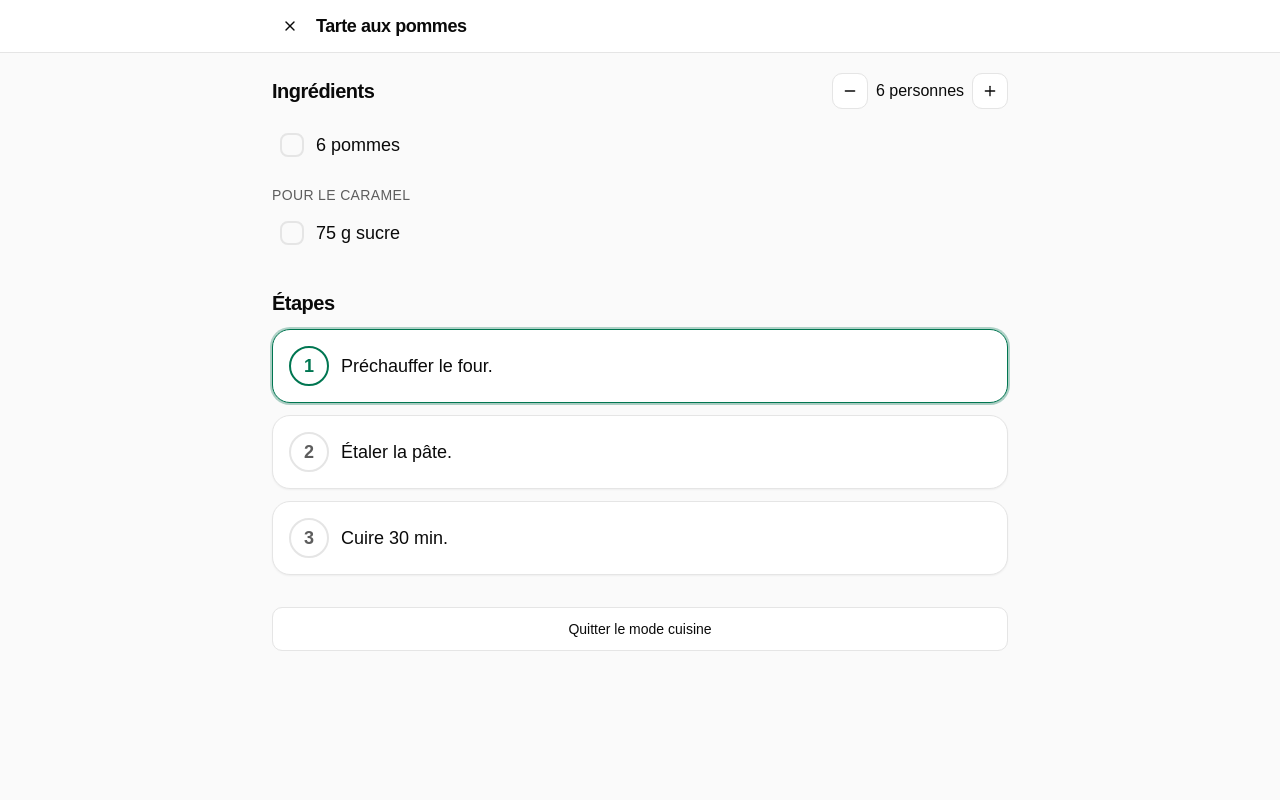
Test: CookingPage › affiche les ingrédients pour le nombre de personnes choisi et les étapes numérotées
The width and height of the screenshot is (1280, 800).
Expected: the heading "Tarte aux pommes" is shown, [316,16,466,36]
Expected: the text "6 personnes" is shown, [872,79,968,103]
Click the button named "Une personne de moins": click(850, 91) [832,73,868,109]
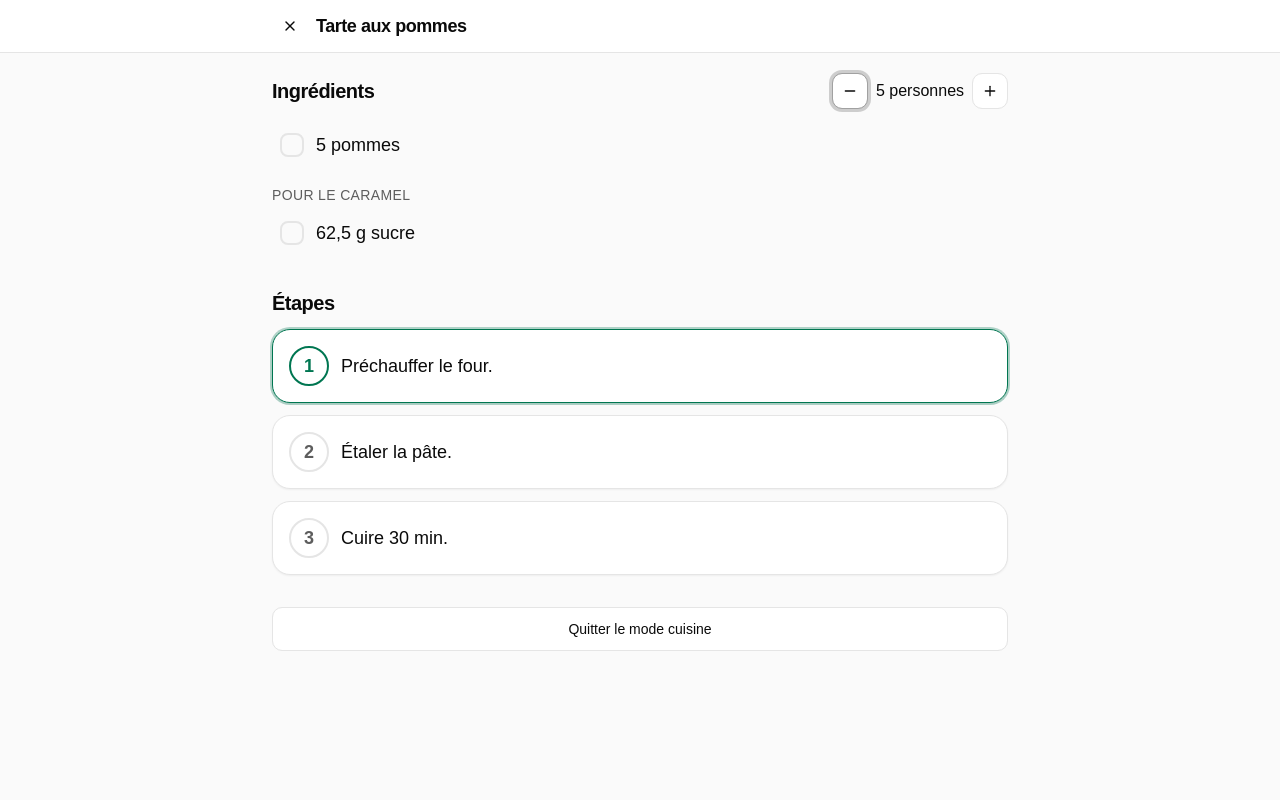
Now the checkbox labelled "5 pommes" is shown, box [272,121,1008,169]
